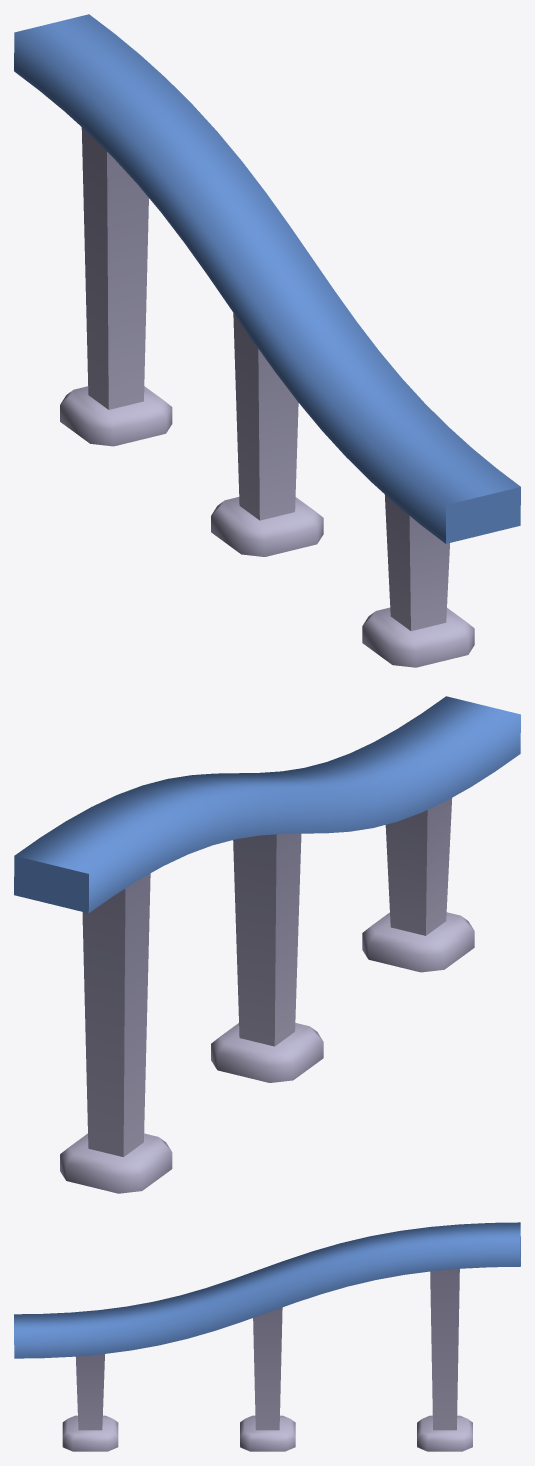
Rendered from rail-slope-smooth.fbx.
3 views of the same model, one above another, from view 1: azimuth 30°, elevation 25°; view 2: azimuth 150°, elevation 25°; view 3: azimuth 270°, elevation 25° (orthographic). The views are drawn at different scales.
Parts seen in each view (by area): view 1: rail-slope-smooth; view 2: rail-slope-smooth; view 3: rail-slope-smooth.
Boxes of the visible parts, x1,y1,x2,y2 form: rail-slope-smooth: [14, 14, 520, 667]; rail-slope-smooth: [14, 696, 520, 1193]; rail-slope-smooth: [14, 1222, 520, 1451].
Bounding box in the file's own units: 11 × 45 × 100.
1 material, 1 textured.
